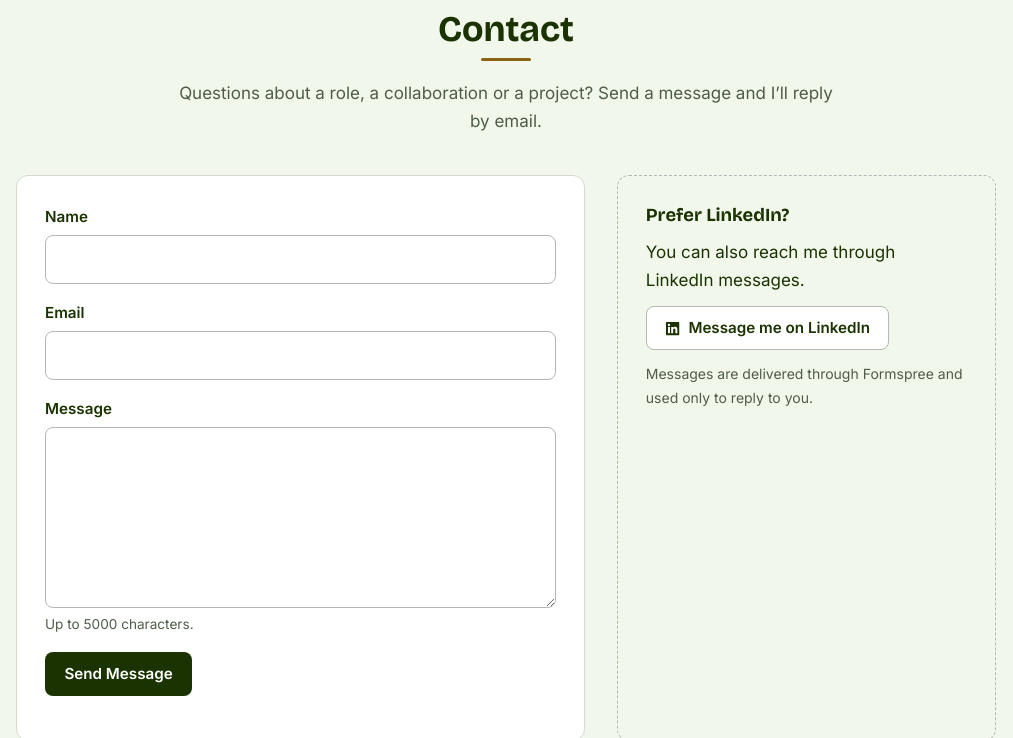
Contact form › has labelled fields and submits JSON to Formspree
Type "Ada" into the field labelled "Name".
click(300, 260); type("Ada")  # box [45, 235, 556, 284]
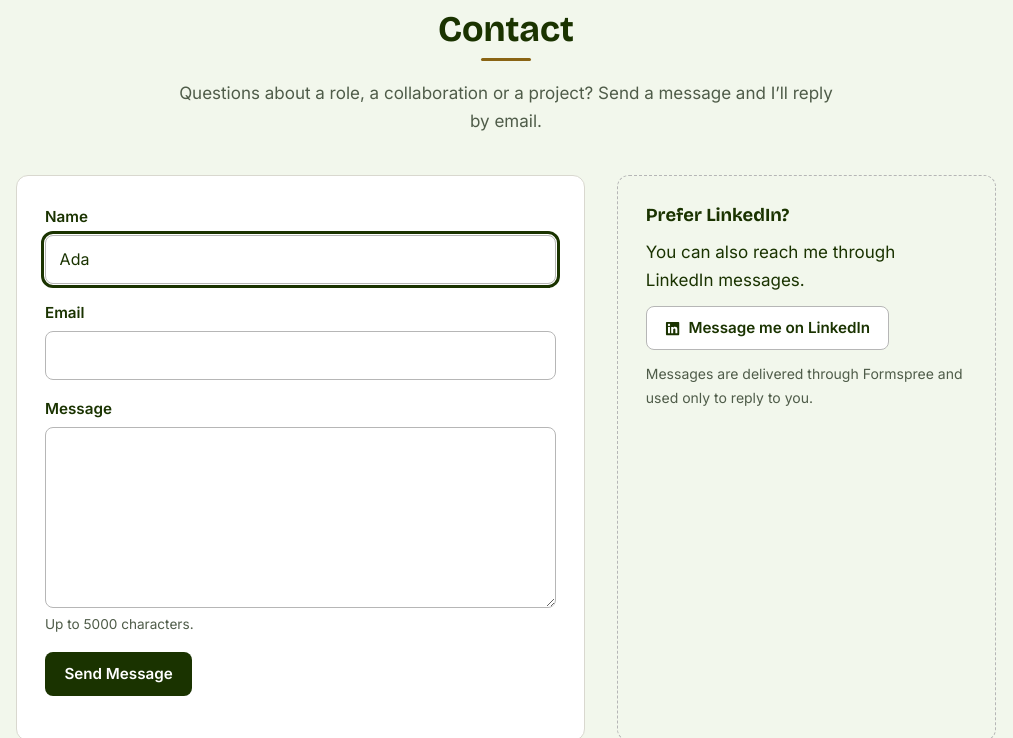
Type "ada@example.com" into the field labelled "Email".
click(300, 355); type("ada@example.com")  # box [45, 331, 556, 380]
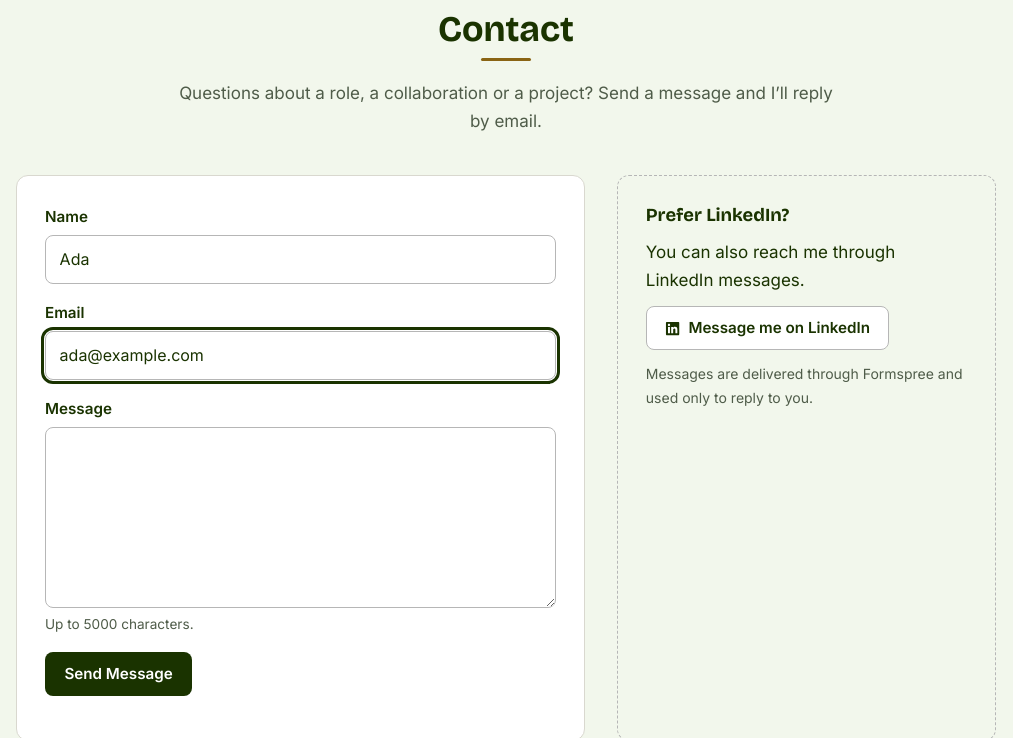
Type "Hello there" into the text box labelled "Message".
click(300, 517); type("Hello there")  # box [45, 427, 556, 608]
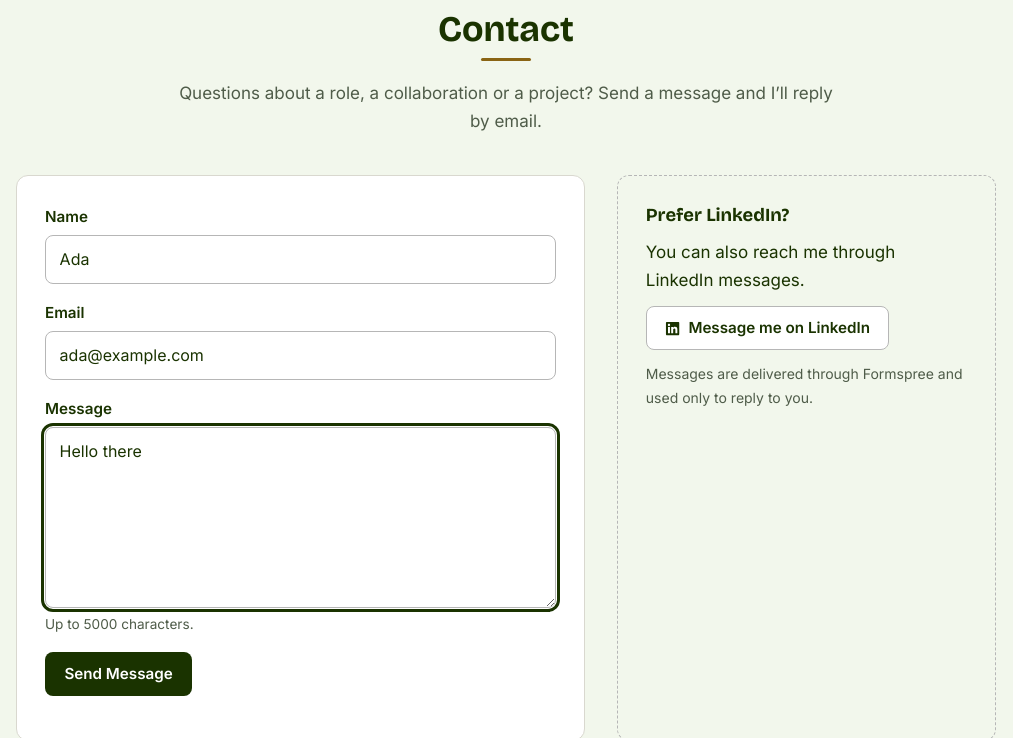
Click the button "Send Message".
click(119, 674)  # box [45, 652, 192, 696]
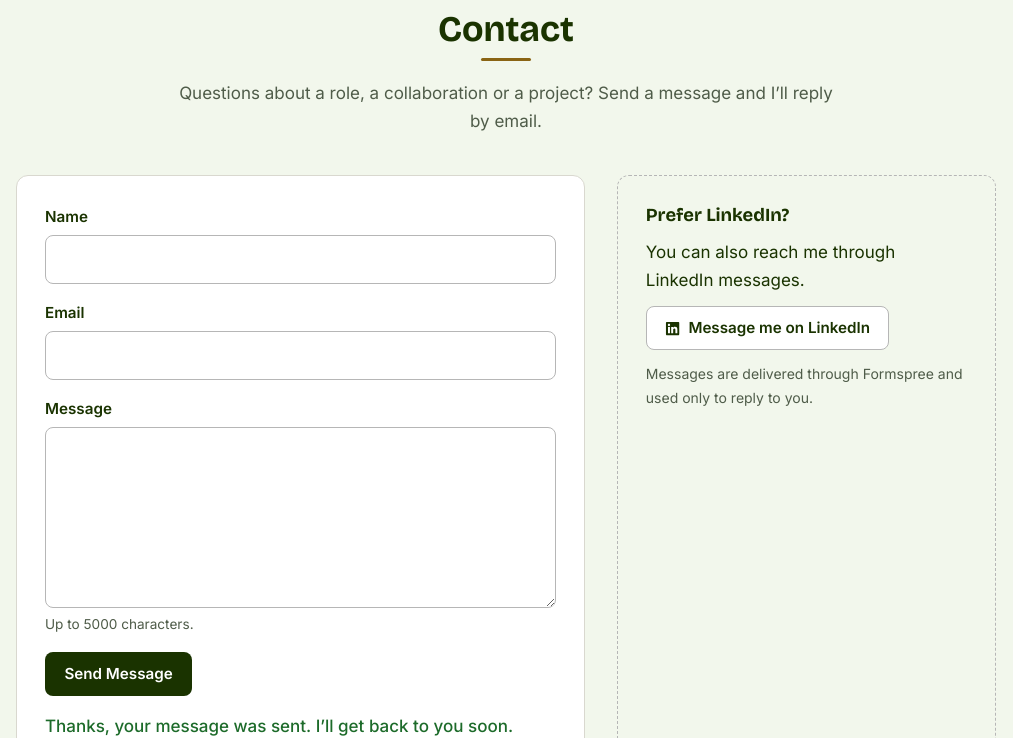
Expected: the message shows "message was sent", [45, 716, 513, 736]
Expected: the field labelled "Name" is empty, [45, 235, 556, 284]
